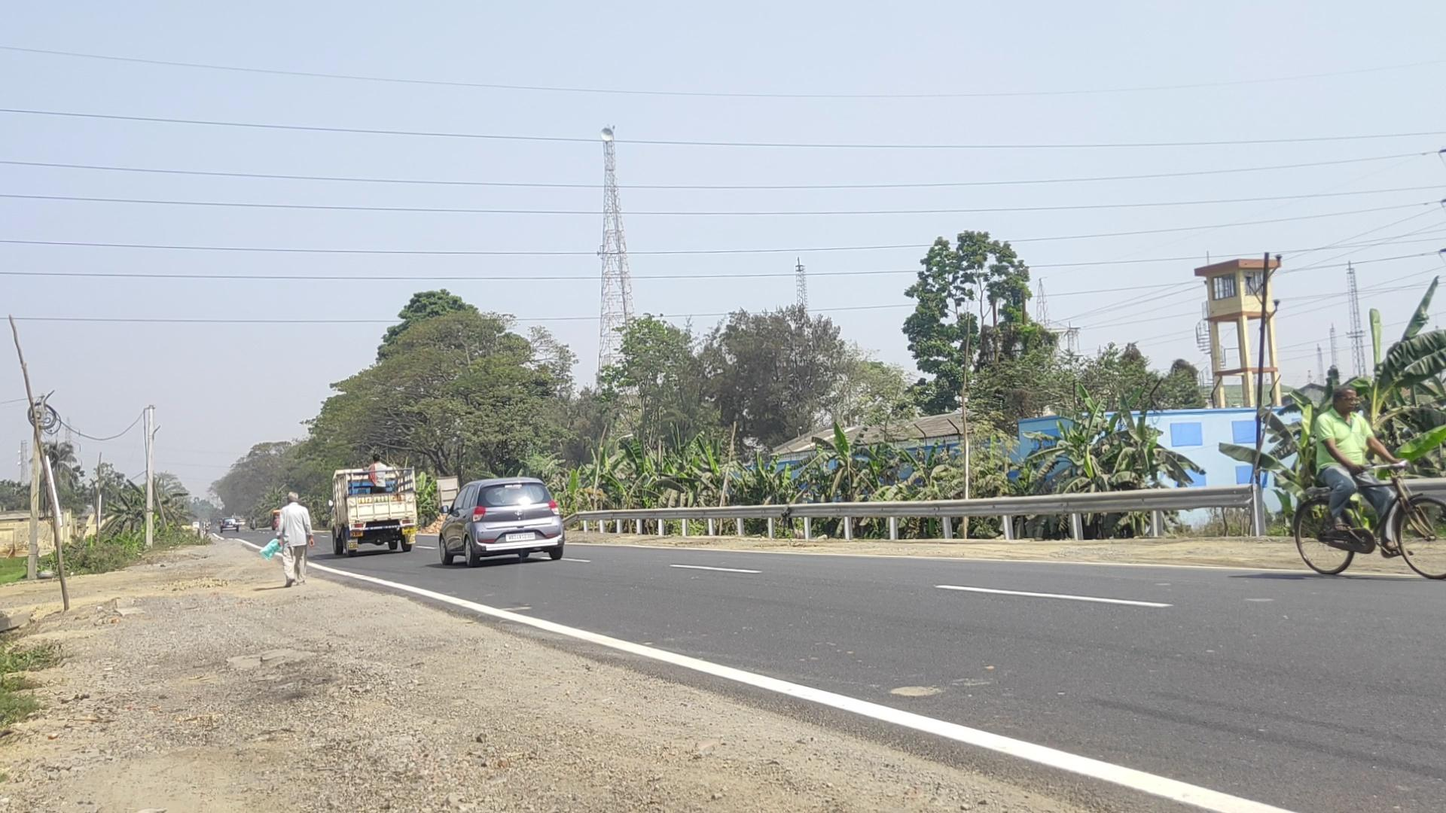bike: (1292, 385, 1446, 580)
car: (438, 477, 565, 568), (220, 517, 239, 534)
van: (327, 454, 416, 558)
